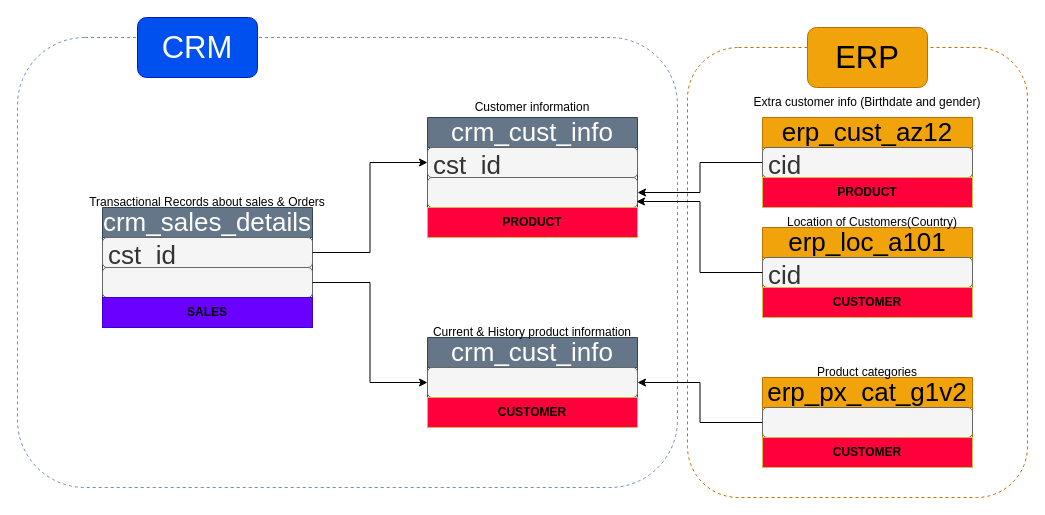
This 1045x515 diagram has some shape labels left out. Here are the shapes that lost their labels. From the top down, the centre of each, then its label:
the point at 532,192: cst_key
the point at 207,282: prd_id
the point at 532,382: prd_key
the point at 867,422: id
